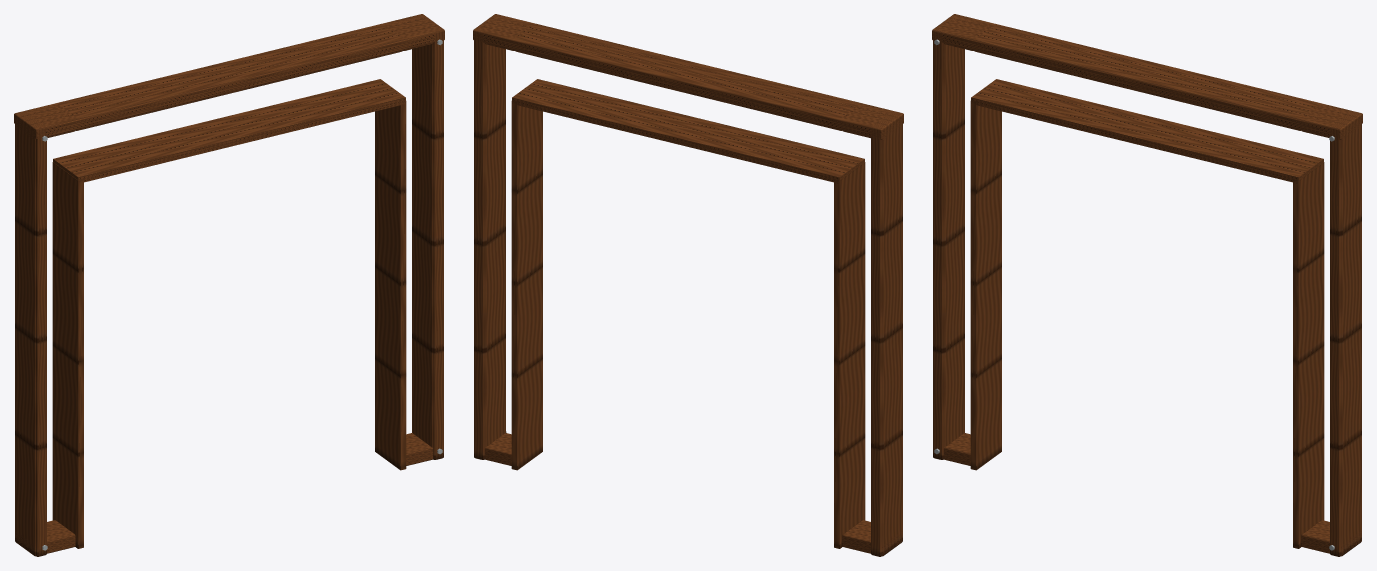
The model's file is prehistoric-survivor-settlement-creature-gateway-frame-f22a3db2__23186.glb.
3 renders of one model, left to right at view 1: azimuth 30°, elevation 25°; view 2: azimuth 150°, elevation 25°; view 3: azimuth 330°, elevation 25°, orthographic.
Parts seen in each view (by area): view 1: creature-gateway-frame; view 2: creature-gateway-frame; view 3: creature-gateway-frame.
Part boxes in pixels (x1,y1,x2,y2): creature-gateway-frame: (14, 14, 444, 556); creature-gateway-frame: (473, 14, 903, 556); creature-gateway-frame: (932, 14, 1362, 556).
Size of the model in its own units: 4 by 4 by 0.4431.
2 materials, 1 textured.
